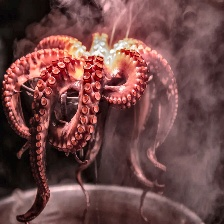octopus: (98, 39, 151, 108)
